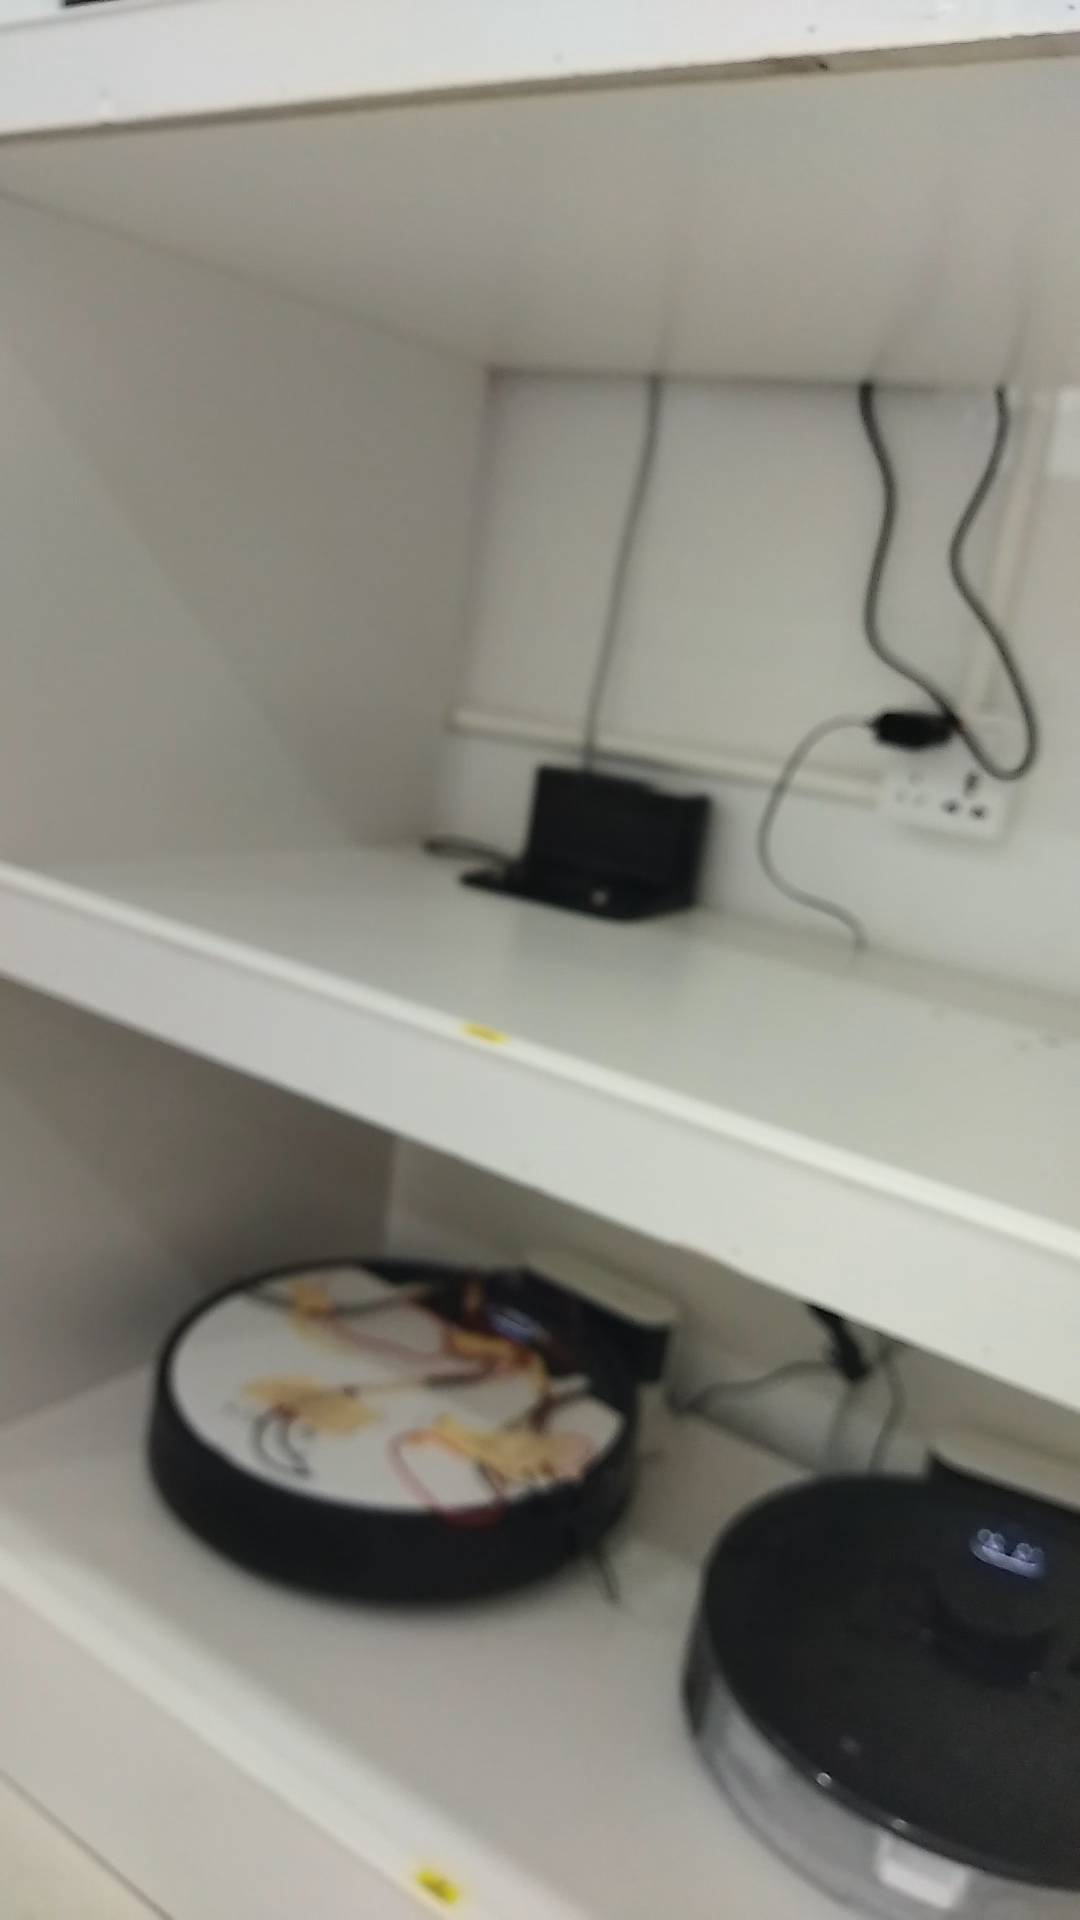recharge seat: (462, 760, 716, 922), (506, 1244, 675, 1458), (920, 1420, 1080, 1509)
